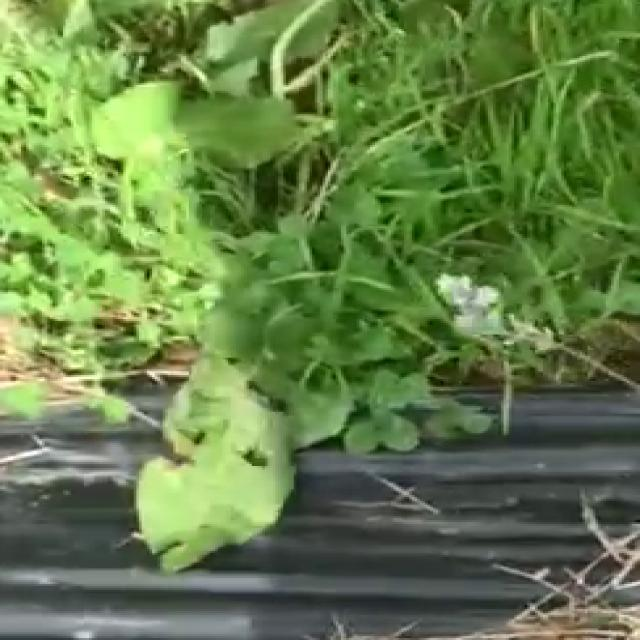organic waste: (66, 306, 430, 590), (83, 0, 359, 191)
